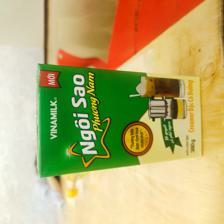NSPN_Hop: (35, 62, 204, 180)
